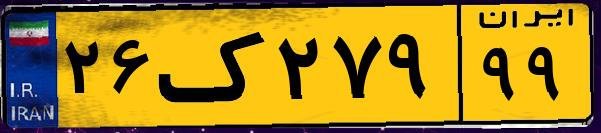2: (270, 28, 330, 110), (57, 26, 110, 100)
6: (110, 28, 158, 98)
7: (330, 28, 385, 110)
9: (385, 28, 445, 110), (475, 38, 525, 113), (525, 38, 570, 115)
ک: (158, 12, 270, 120)
